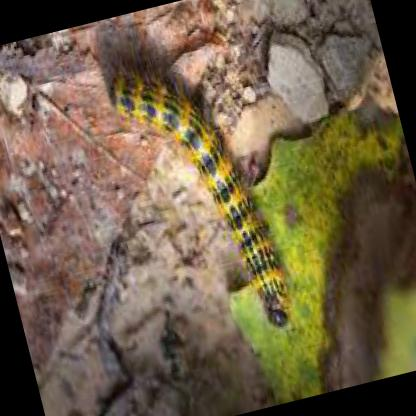pieris: (105, 62, 294, 331)
